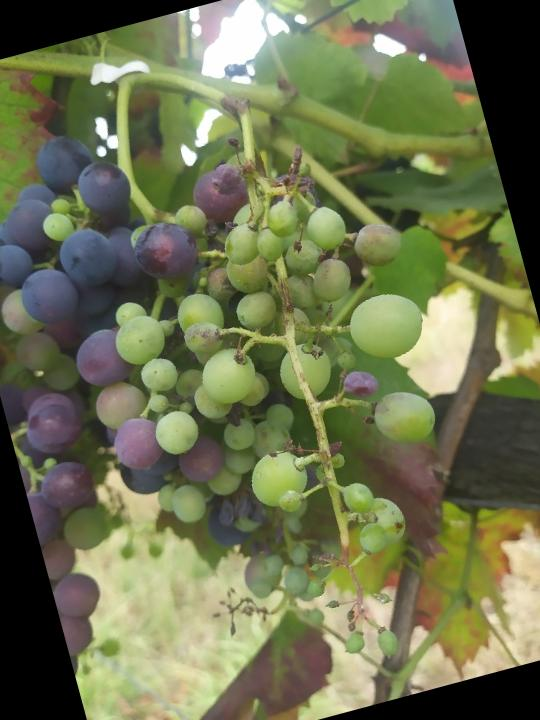grape: (74, 119, 512, 709)
